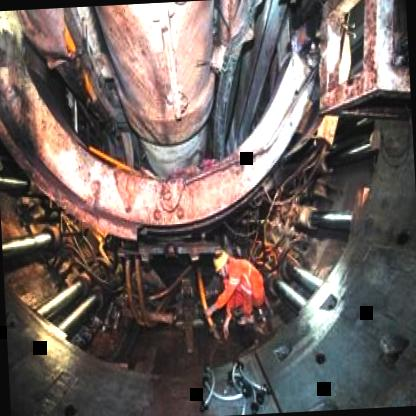helmet: (210, 248, 234, 282)
